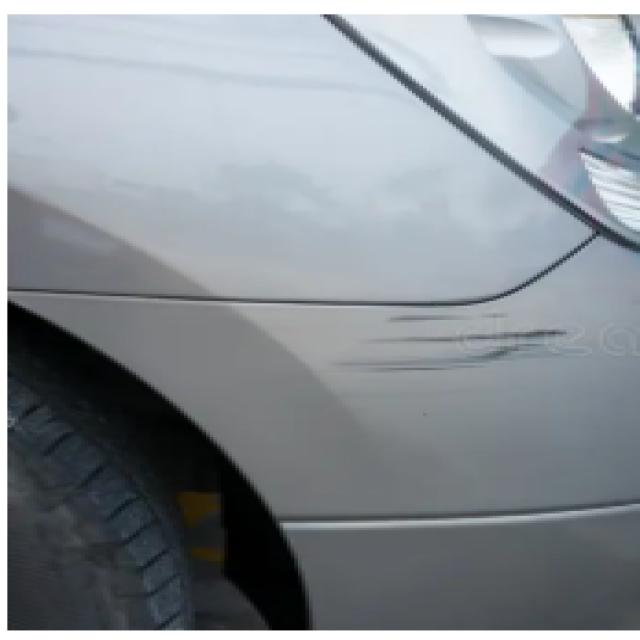scratch: (307, 295, 589, 389)
